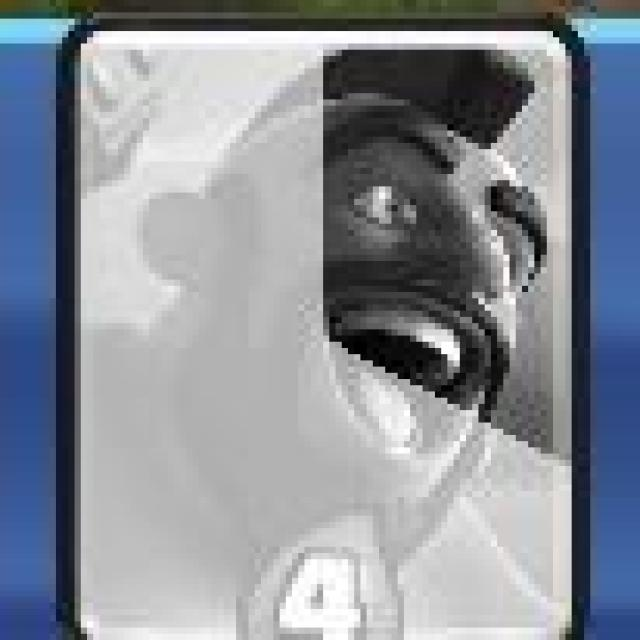Hog_Rider: (60, 13, 588, 635)
